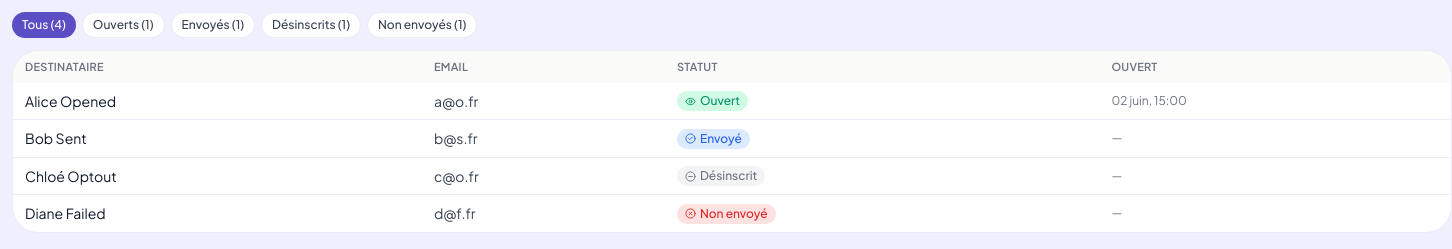
Scenario: RecipientsTable › filtre 'failed' ne montre que les non-envoyés
Click the tab "Non envoyés (1)" at (422,25), box 367,12 -> 477,38
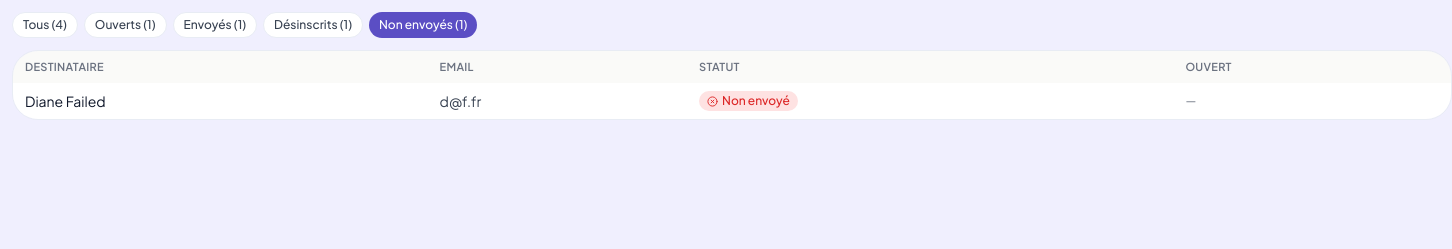
Expected: the text "Diane Failed" is shown, 13,83 -> 428,119
Expected: the text "Alice Opened" is gone
